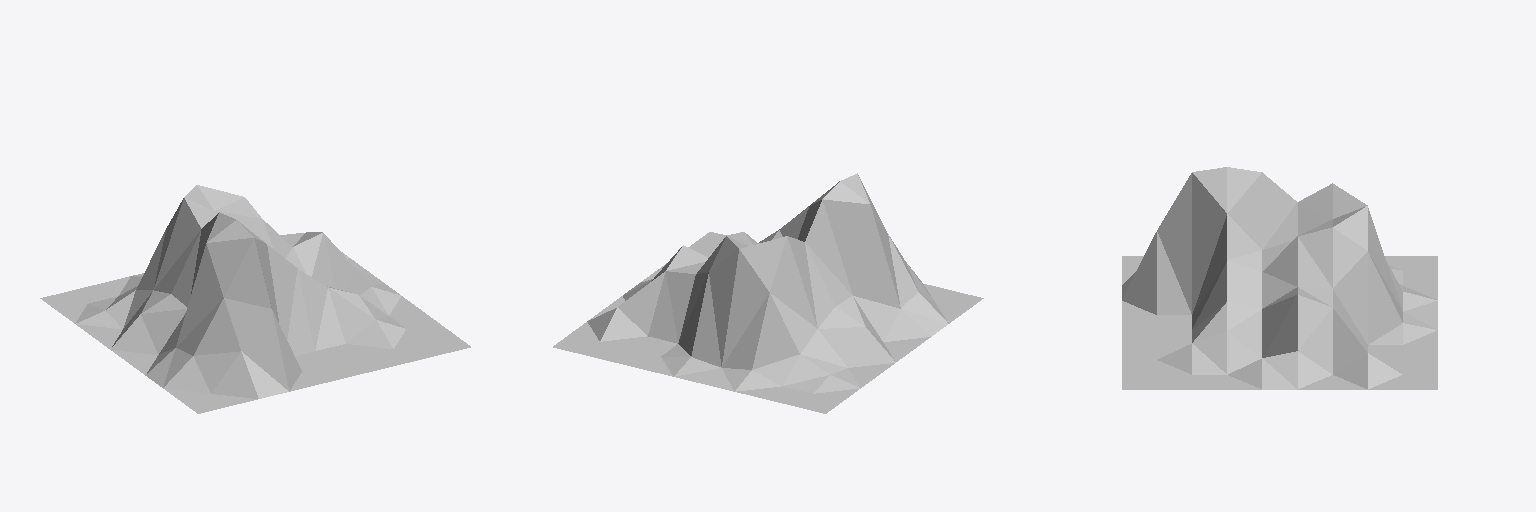
File: mountains.obj
3 renders of one model, left to right at view 1: azimuth 30°, elevation 25°; view 2: azimuth 150°, elevation 25°; view 3: azimuth 270°, elevation 25°, orthographic.
Parts seen in each view (by area): view 1: Grid; view 2: Grid; view 3: Grid.
Part boxes in pixels (x1,y1,x2,y2): Grid: (40,185,470,413); Grid: (553,173,983,413); Grid: (1122,167,1437,389).
Bounding box in the file's own units: 14.03 × 6.53 × 14.03.